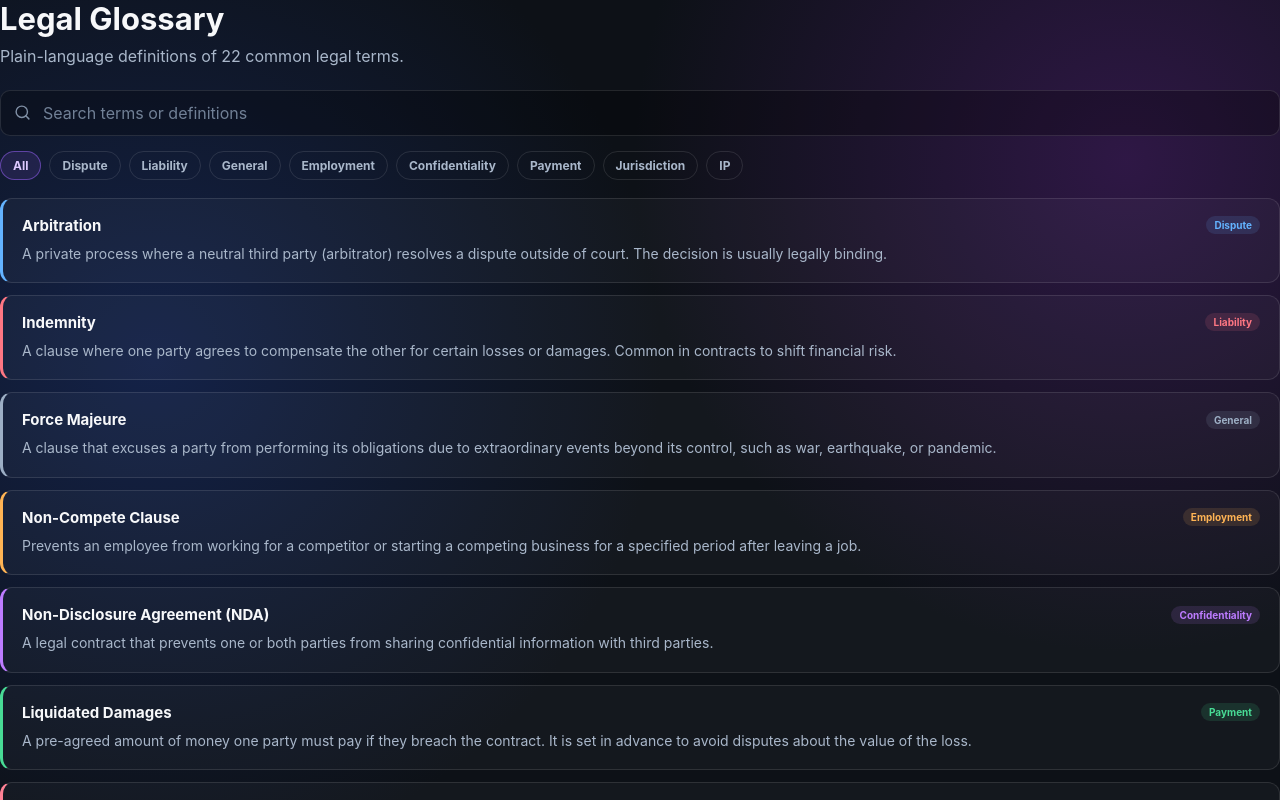
it: LegalGlossary › shows a no-results state and cancels pending search on unmount
In the search field named "search glossary": (654, 113) [41, 91, 1266, 135], type "not-a-real-term"
Wait 150 ms
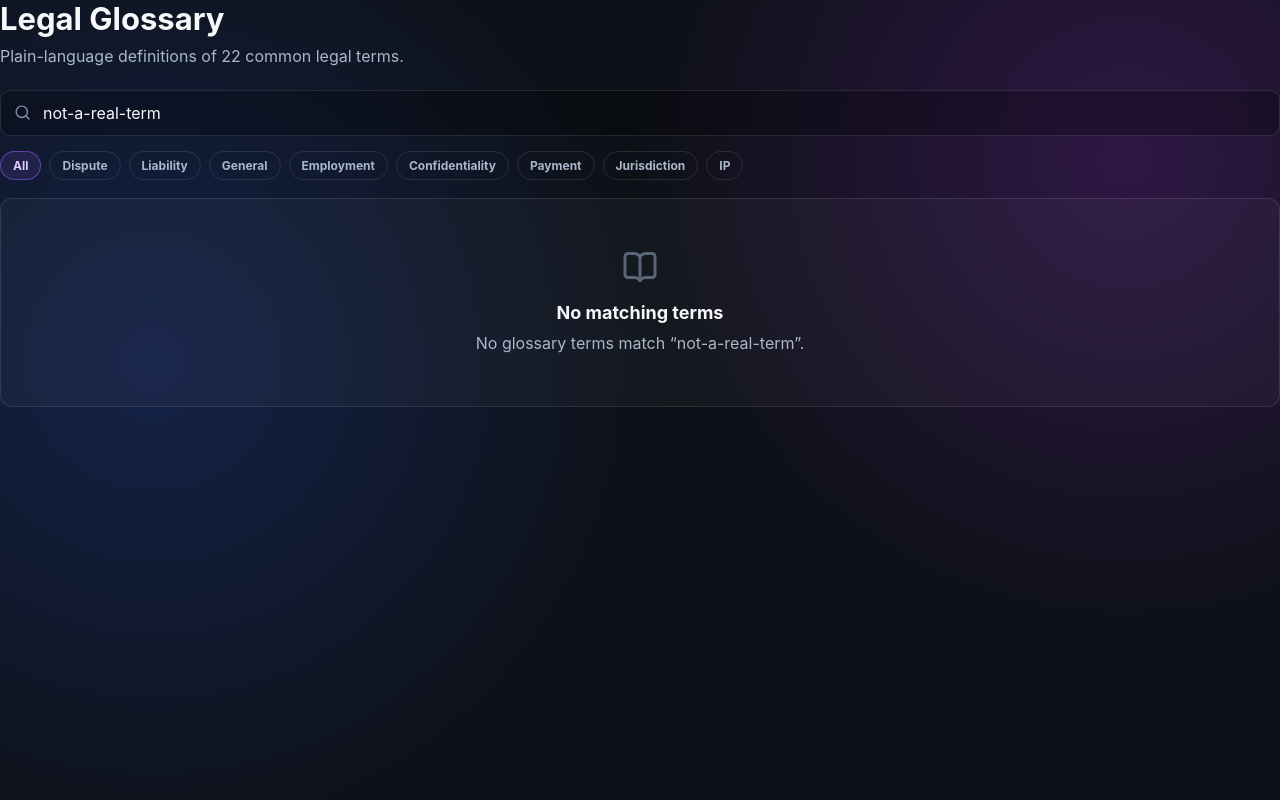
Result: the heading "No matching terms" is shown at [556, 302, 724, 323]
